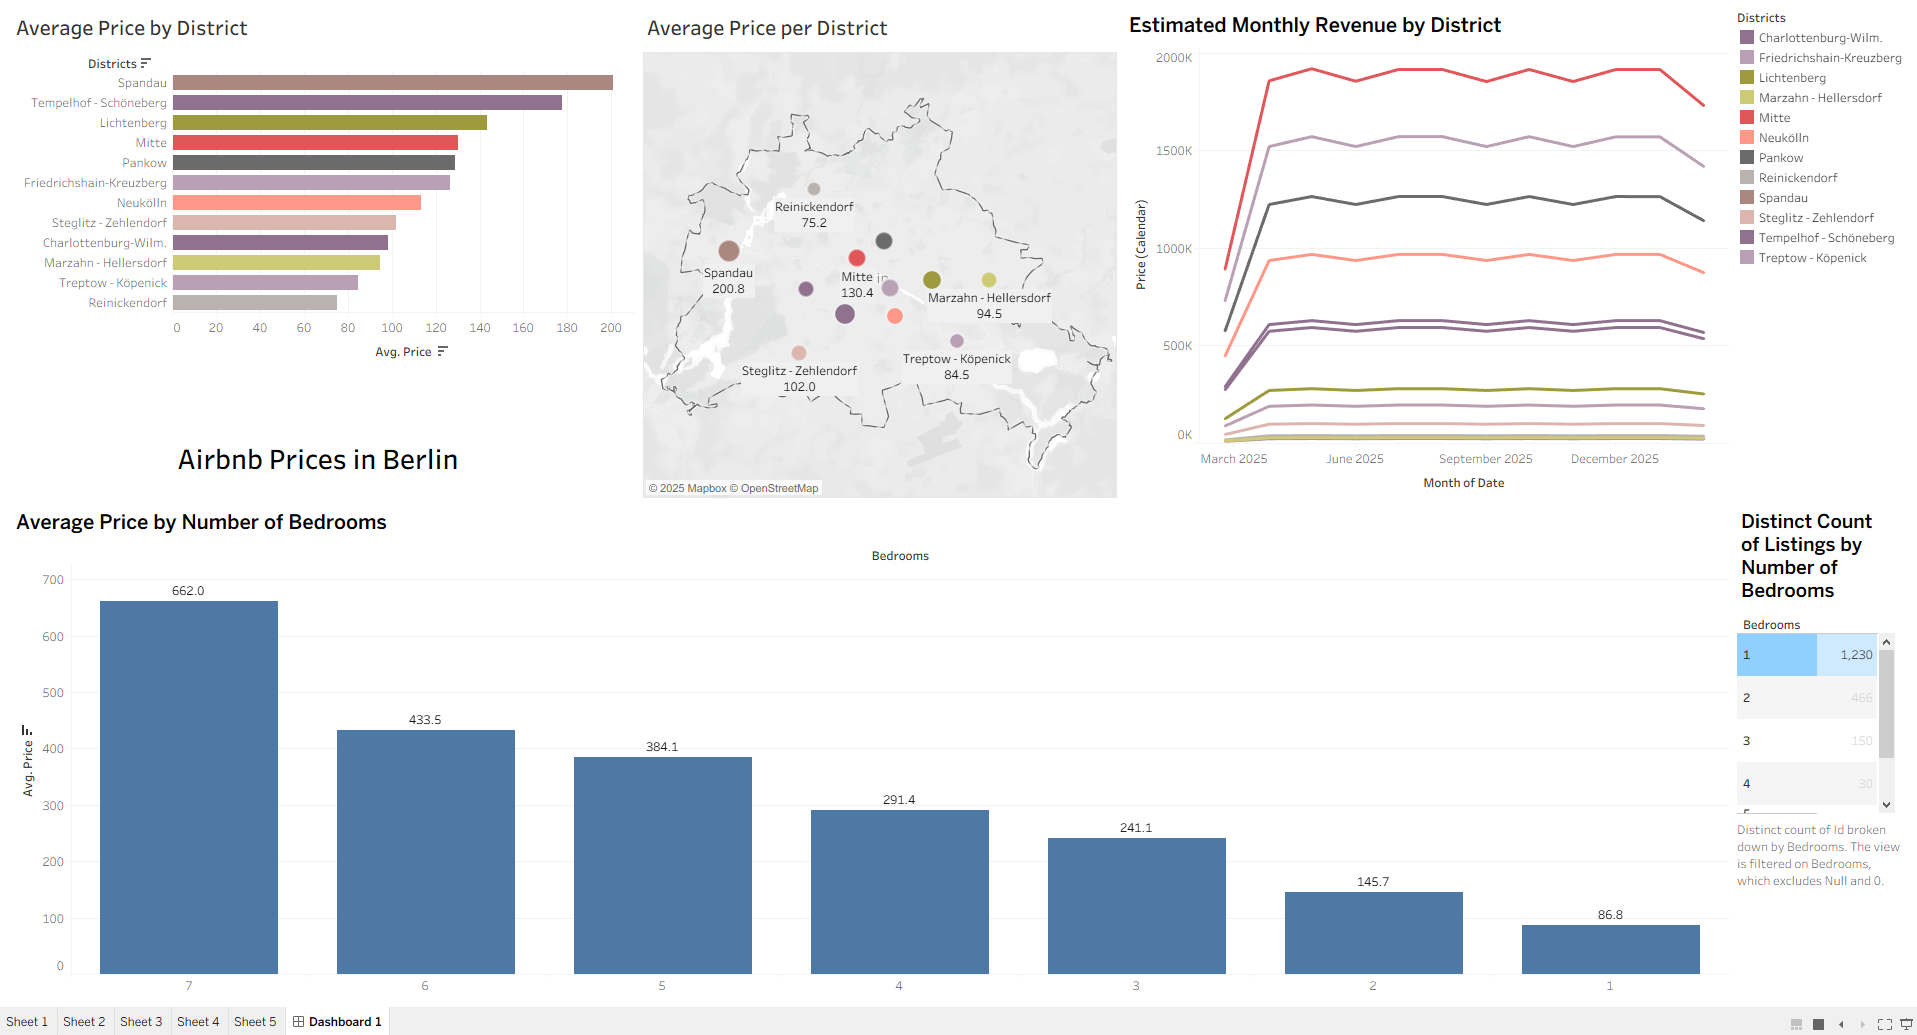

What the dashboard file says about the page in this screenshot:
{"tool":"tableau","page":{"name":"Dashboard 1","canvas":[1000,1000],"units":"permille","ordinal":0},"visuals":[{"type":"worksheet","title":"Sheet 1","mark":"Automatic","rows":["neighbourhood_group_cleansed"],"cols":["price"],"box":[4.7,9.3,326.8,490.7]},{"type":"worksheet","title":"Sheet 2","mark":"Circle","rows":["Calculation_288793392599220228"],"cols":["Calculation_288793392599007235"],"box":[331.4,9.3,249.3,490.7]},{"type":"worksheet","title":"Sheet 3","mark":"Automatic","rows":["price (calendar)"],"cols":["date"],"box":[580.7,9.3,316.9,490.7]},{"type":"legend","title":"Sheet 1","param":"[federated.018dpm81y9awjd1emvcsz0eu4hnc].[none:neighbourhood_group_cleansed:nk]","box":[897.6,9.3,97.7,513.9]},{"type":"title","box":[91.3,415.5,240.5,82.2]},{"type":"worksheet","title":"Sheet 4","mark":"Automatic","rows":["price"],"cols":["bedrooms"],"box":[4.7,500,892.9,490.7]},{"type":"worksheet","title":"Sheet 5","mark":"Automatic","rows":["bedrooms"],"box":[897.6,523.1,97.7,351.9]}]}

Visuals, with their boxes on the dashboard's canvas, which has no fixed pixel size, in thousandths of its width and height (x1, y1, x2, y2). These are canvas units, not pixel positions in the 1917x1035 screenshot, which may show the page scaled, cropped or inside an application window:
"Sheet 1" worksheet: x1=5, y1=9, x2=332, y2=500
"Sheet 2" worksheet (Circle marks): x1=331, y1=9, x2=581, y2=500
"Sheet 3" worksheet: x1=581, y1=9, x2=898, y2=500
"Sheet 1" legend: x1=898, y1=9, x2=995, y2=523
title: x1=91, y1=416, x2=332, y2=498
"Sheet 4" worksheet: x1=5, y1=500, x2=898, y2=991
"Sheet 5" worksheet: x1=898, y1=523, x2=995, y2=875
